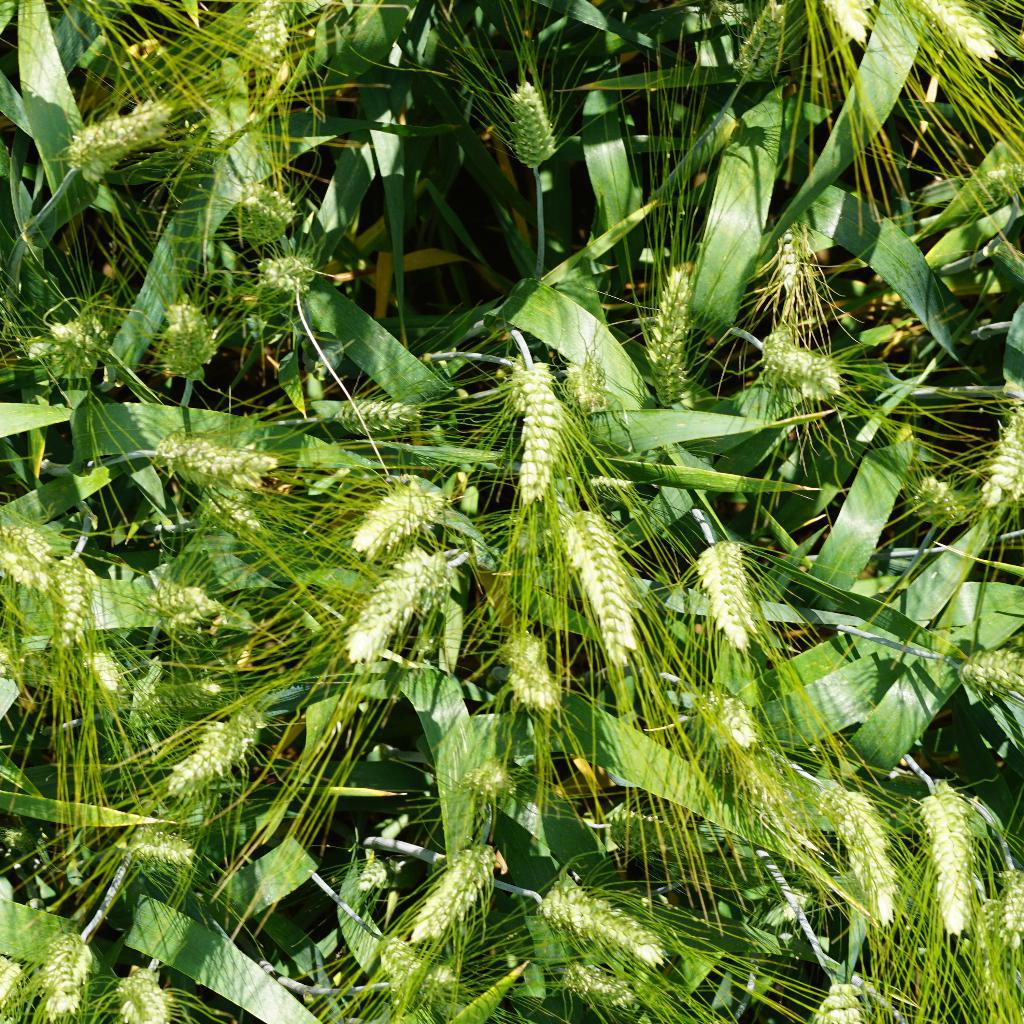0-0: (803, 752, 912, 933), (340, 539, 467, 664), (553, 492, 641, 671), (631, 250, 717, 417), (524, 871, 675, 965), (909, 750, 980, 941), (38, 89, 185, 179), (679, 529, 780, 651), (397, 829, 504, 942), (500, 348, 571, 504), (490, 45, 563, 185), (333, 468, 456, 548), (167, 695, 257, 804), (895, 0, 1015, 71), (145, 433, 273, 499), (595, 804, 723, 869), (496, 617, 570, 718), (727, 751, 804, 844), (761, 221, 834, 318), (752, 333, 845, 408), (37, 912, 96, 1024), (783, 0, 891, 60), (139, 564, 230, 635), (157, 284, 224, 377), (47, 542, 103, 653), (103, 810, 197, 875), (25, 306, 105, 381), (236, 0, 318, 73), (561, 953, 649, 1021), (452, 744, 523, 819), (245, 247, 342, 301), (729, 0, 791, 82), (325, 395, 428, 444), (979, 397, 1024, 509), (894, 462, 964, 533), (231, 169, 301, 239), (572, 447, 659, 501), (985, 844, 1024, 963), (961, 632, 1024, 702), (64, 631, 137, 691), (369, 930, 422, 1012), (115, 963, 185, 1024), (712, 680, 766, 757), (803, 968, 876, 1024), (344, 830, 396, 905), (0, 518, 60, 578), (555, 362, 614, 418), (977, 151, 1024, 214), (415, 949, 471, 1001), (173, 15, 195, 69)
